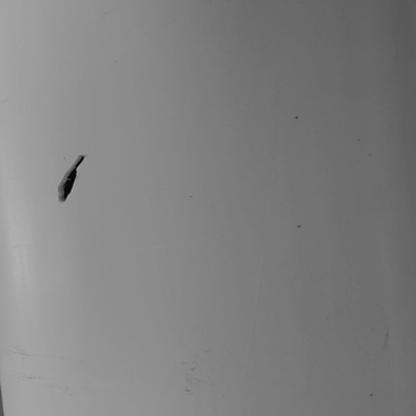kongdong: (55, 156, 90, 203)
